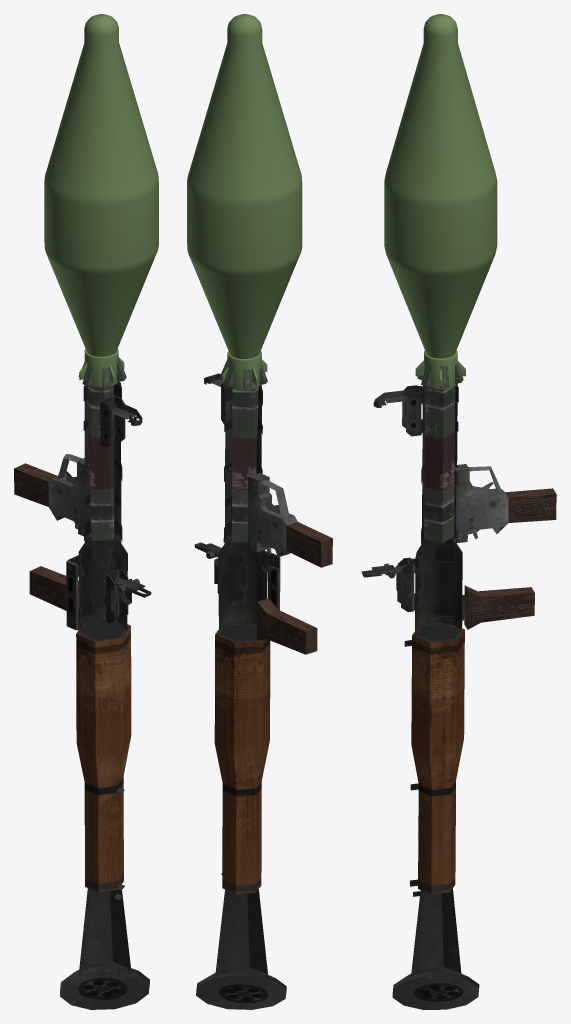
The model's file is RPG-7.glb.
3 views of the same model, side by side, from view 1: azimuth 30°, elevation 25°; view 2: azimuth 210°, elevation 25°; view 3: azimuth 270°, elevation 25° (orthographic).
Parts seen in each view (by area): view 1: 4d2d6410obj; view 2: 4d2d6410obj; view 3: 4d2d6410obj.
Boxes of the visible parts, x1,y1,x2,y2 form: 4d2d6410obj: (14, 14, 158, 1009); 4d2d6410obj: (187, 14, 332, 1009); 4d2d6410obj: (361, 14, 556, 1009).
Bounding box in the file's own units: 1.97 × 18.36 × 3.32.
2 materials, 1 textured.
